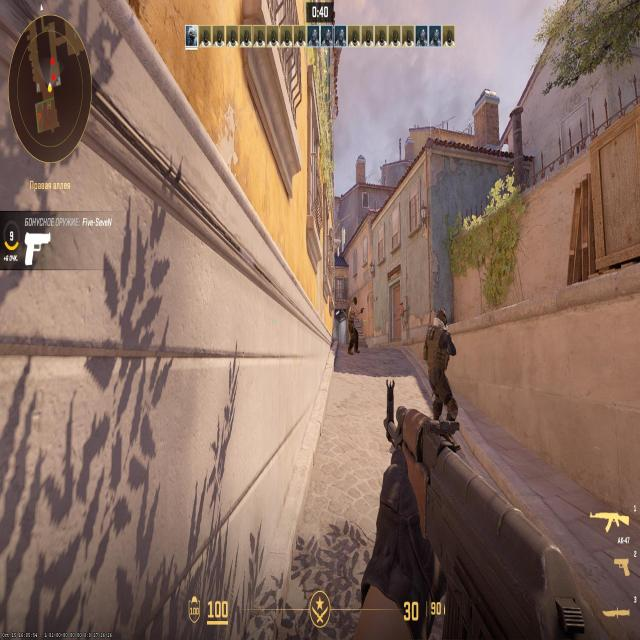CT: (429, 312, 450, 400)
CT_heat: (438, 312, 445, 333)
T: (350, 300, 358, 350)
T_heat: (354, 300, 357, 304)
